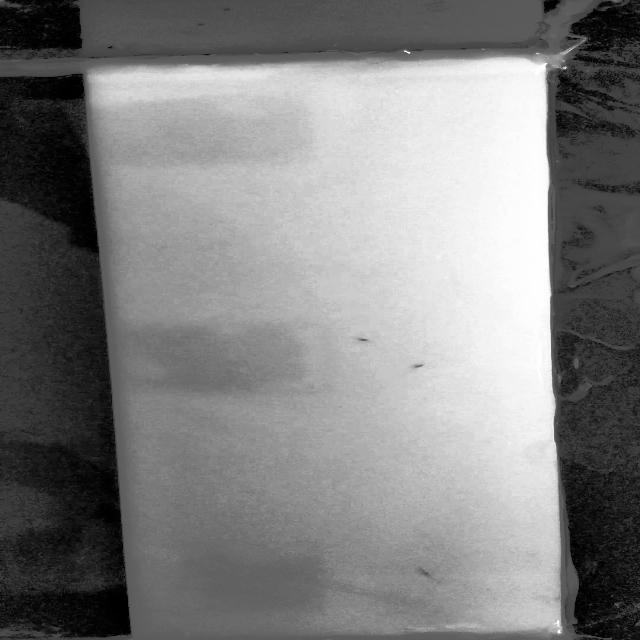shrimp: (404, 361, 434, 375), (350, 333, 375, 348), (417, 568, 437, 582)
